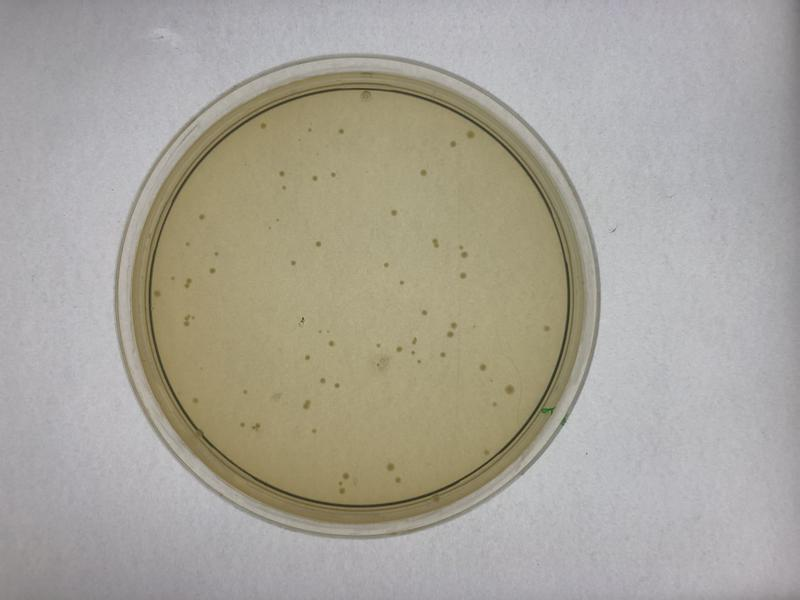colony: (205, 262, 220, 283), (503, 379, 517, 399), (382, 459, 398, 476), (286, 253, 301, 270), (417, 163, 431, 181), (273, 164, 290, 178), (386, 204, 399, 222), (456, 249, 473, 262), (445, 136, 459, 150), (257, 119, 272, 132), (326, 166, 339, 181), (194, 210, 209, 223), (311, 238, 327, 250), (418, 304, 431, 318), (330, 378, 343, 392), (237, 384, 250, 398), (234, 418, 248, 431), (333, 123, 348, 135), (457, 268, 469, 283), (299, 350, 314, 362), (339, 466, 351, 481), (309, 170, 321, 184), (179, 237, 193, 249), (436, 348, 448, 362), (489, 399, 501, 413), (278, 179, 290, 192), (476, 361, 489, 373), (315, 371, 326, 385), (188, 395, 202, 406), (324, 337, 336, 349), (210, 246, 221, 259), (397, 277, 408, 290), (541, 322, 552, 334), (394, 342, 404, 355), (274, 213, 283, 224), (381, 261, 391, 268)
